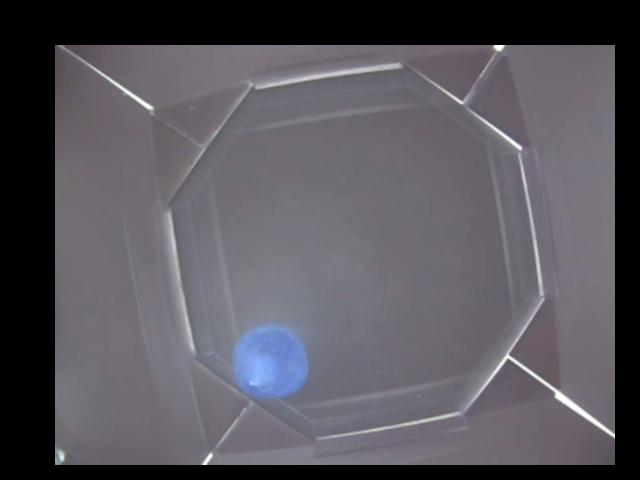Potato: (239, 325, 306, 398)
